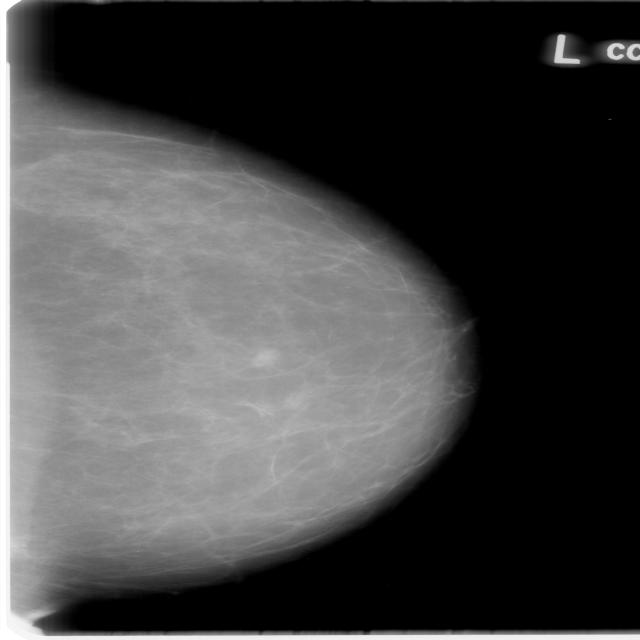normal: (0, 92, 496, 614)
